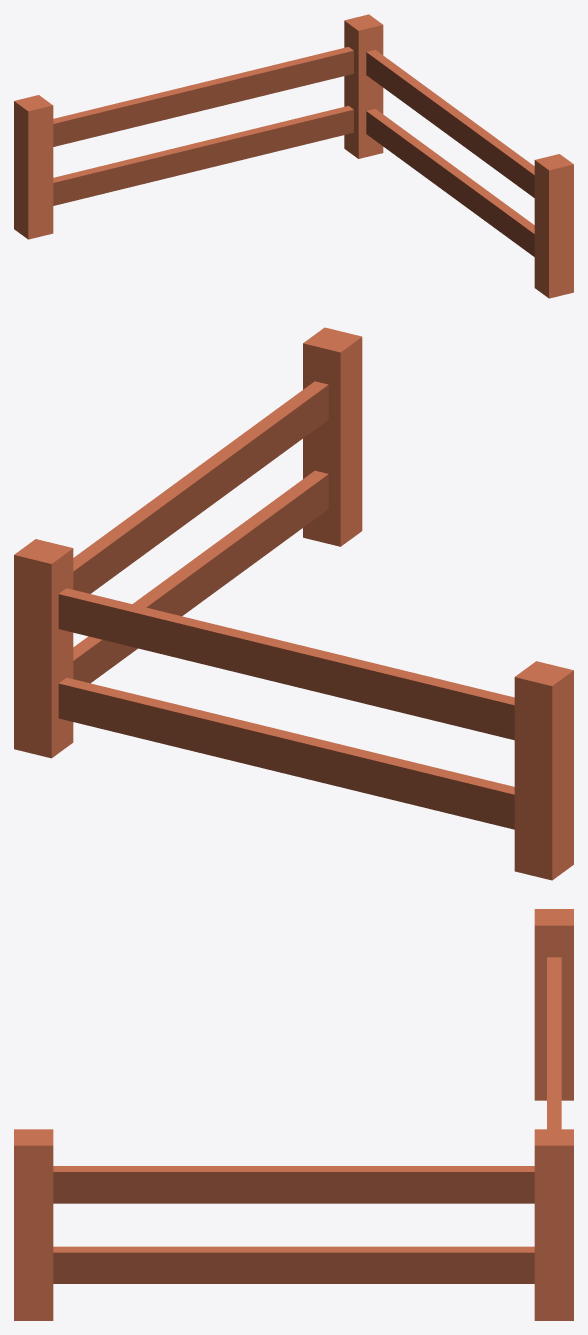
Rendered from post.glb.
3 views of the same model, one above another, from view 1: azimuth 30°, elevation 25°; view 2: azimuth 150°, elevation 25°; view 3: azimuth 270°, elevation 25° (orthographic). The views are drawn at different scales.
Parts seen in each view (by area): view 1: fence_corner; view 2: fence_corner; view 3: fence_corner.
Part boxes in pixels (bbox=[...]): fence_corner: bbox=[14, 14, 573, 298]; fence_corner: bbox=[14, 327, 573, 880]; fence_corner: bbox=[14, 909, 573, 1320].
Size of the model in its own units: 1 by 0.345 by 1.
